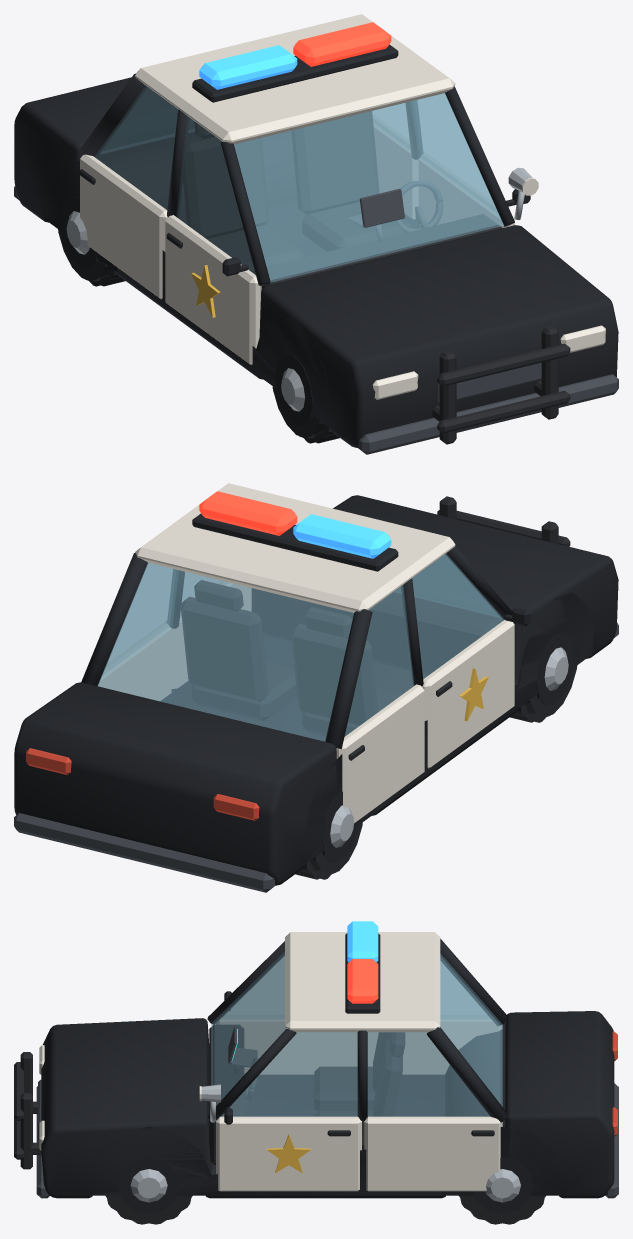
The model's file is police-patrol-car.glb.
3 renders of one model, top to bottom at view 1: azimuth 30°, elevation 25°; view 2: azimuth 150°, elevation 25°; view 3: azimuth 270°, elevation 25°, orthographic. The views are drawn at different scales.
Parts seen in each view (by area): view 1: Body, Glass_Cabin, Roof, Door_FR, Door_RR, Seat_Driver_Back, Seat_Passenger_Back, Dashboard, Bumper_Front, Door_FL, LightBar_Base, Door_RL (+25 smaller); view 2: Body, Glass_Cabin, Roof, Dashboard, Door_FR, Door_RR, Seat_Driver_Back, Seat_Passenger_Back, Bumper_Rear, Door_RL, LightBar_Base, LightBar_Blue (+21 smaller); view 3: Body, Glass_Cabin, Roof, Door_FL, Door_RL, Door_FR, Door_RR, Dashboard, Seat_Passenger_Cushion, Pillar_C_L, Rim_FL, Seat_Driver_Back (+19 smaller).
Part boxes in pixels (<box>): Body: <box>14,77,618,447</box>; Glass_Cabin: <box>94,84,503,283</box>; Roof: <box>135,14,455,144</box>; Door_FR: <box>165,215,261,365</box>; Door_RR: <box>80,154,167,299</box>; Seat_Driver_Back: <box>291,111,378,214</box>; Seat_Passenger_Back: <box>183,136,268,238</box>; Dashboard: <box>253,214,502,288</box>; Bumper_Front: <box>358,374,618,454</box>; Door_FL: <box>419,154,514,227</box>; LightBar_Base: <box>192,44,398,102</box>; Door_RL: <box>373,115,418,218</box>; Body: <box>14,495,618,885</box>; Glass_Cabin: <box>97,553,503,741</box>; Roof: <box>135,483,455,612</box>; Dashboard: <box>252,588,501,674</box>; Door_FR: <box>422,620,514,768</box>; Door_RR: <box>336,684,424,823</box>; Seat_Driver_Back: <box>181,597,268,701</box>; Seat_Passenger_Back: <box>291,624,378,725</box>; Bumper_Rear: <box>14,813,274,892</box>; Door_RL: <box>98,623,171,700</box>; LightBar_Base: <box>192,513,398,571</box>; LightBar_Blue: <box>293,514,391,558</box>; Body: <box>41,1011,614,1198</box>; Glass_Cabin: <box>211,951,502,1116</box>; Roof: <box>285,932,440,1032</box>; Door_FL: <box>216,1116,361,1191</box>; Door_RL: <box>364,1116,502,1191</box>; Door_FR: <box>216,1015,357,1074</box>; Door_RR: <box>368,1015,502,1074</box>; Dashboard: <box>209,1024,243,1164</box>; Seat_Passenger_Cushion: <box>314,1067,375,1111</box>; Pillar_C_L: <box>427,1027,506,1122</box>; Rim_FL: <box>118,1157,180,1213</box>; Seat_Driver_Back: <box>373,1039,402,1116</box>.
Size of the model in its own units: 7.5 by 6.27 by 15.58.
